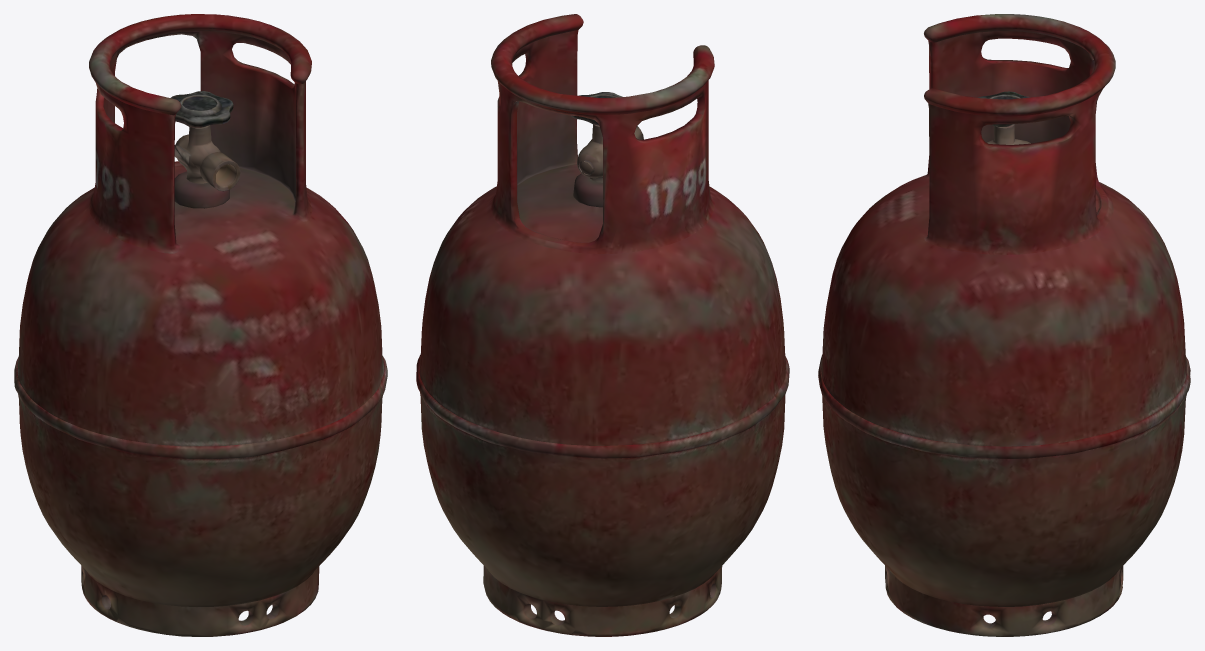
File: small_lpg_tank.glb
3 views of the same model, side by side, from view 1: azimuth 30°, elevation 25°; view 2: azimuth 150°, elevation 25°; view 3: azimuth 270°, elevation 25° (orthographic).
Visible parts, largest first — view 1: small_lpg_tank; view 2: small_lpg_tank; view 3: small_lpg_tank.
Part boxes in pixels (x1,y1,x2,y2): small_lpg_tank: [14, 14, 387, 636]; small_lpg_tank: [416, 14, 789, 636]; small_lpg_tank: [818, 14, 1190, 636].
Bounding box in the file's own units: 0.4099 × 0.642 × 0.4092.
Materials: 1 (1 with a texture image).
